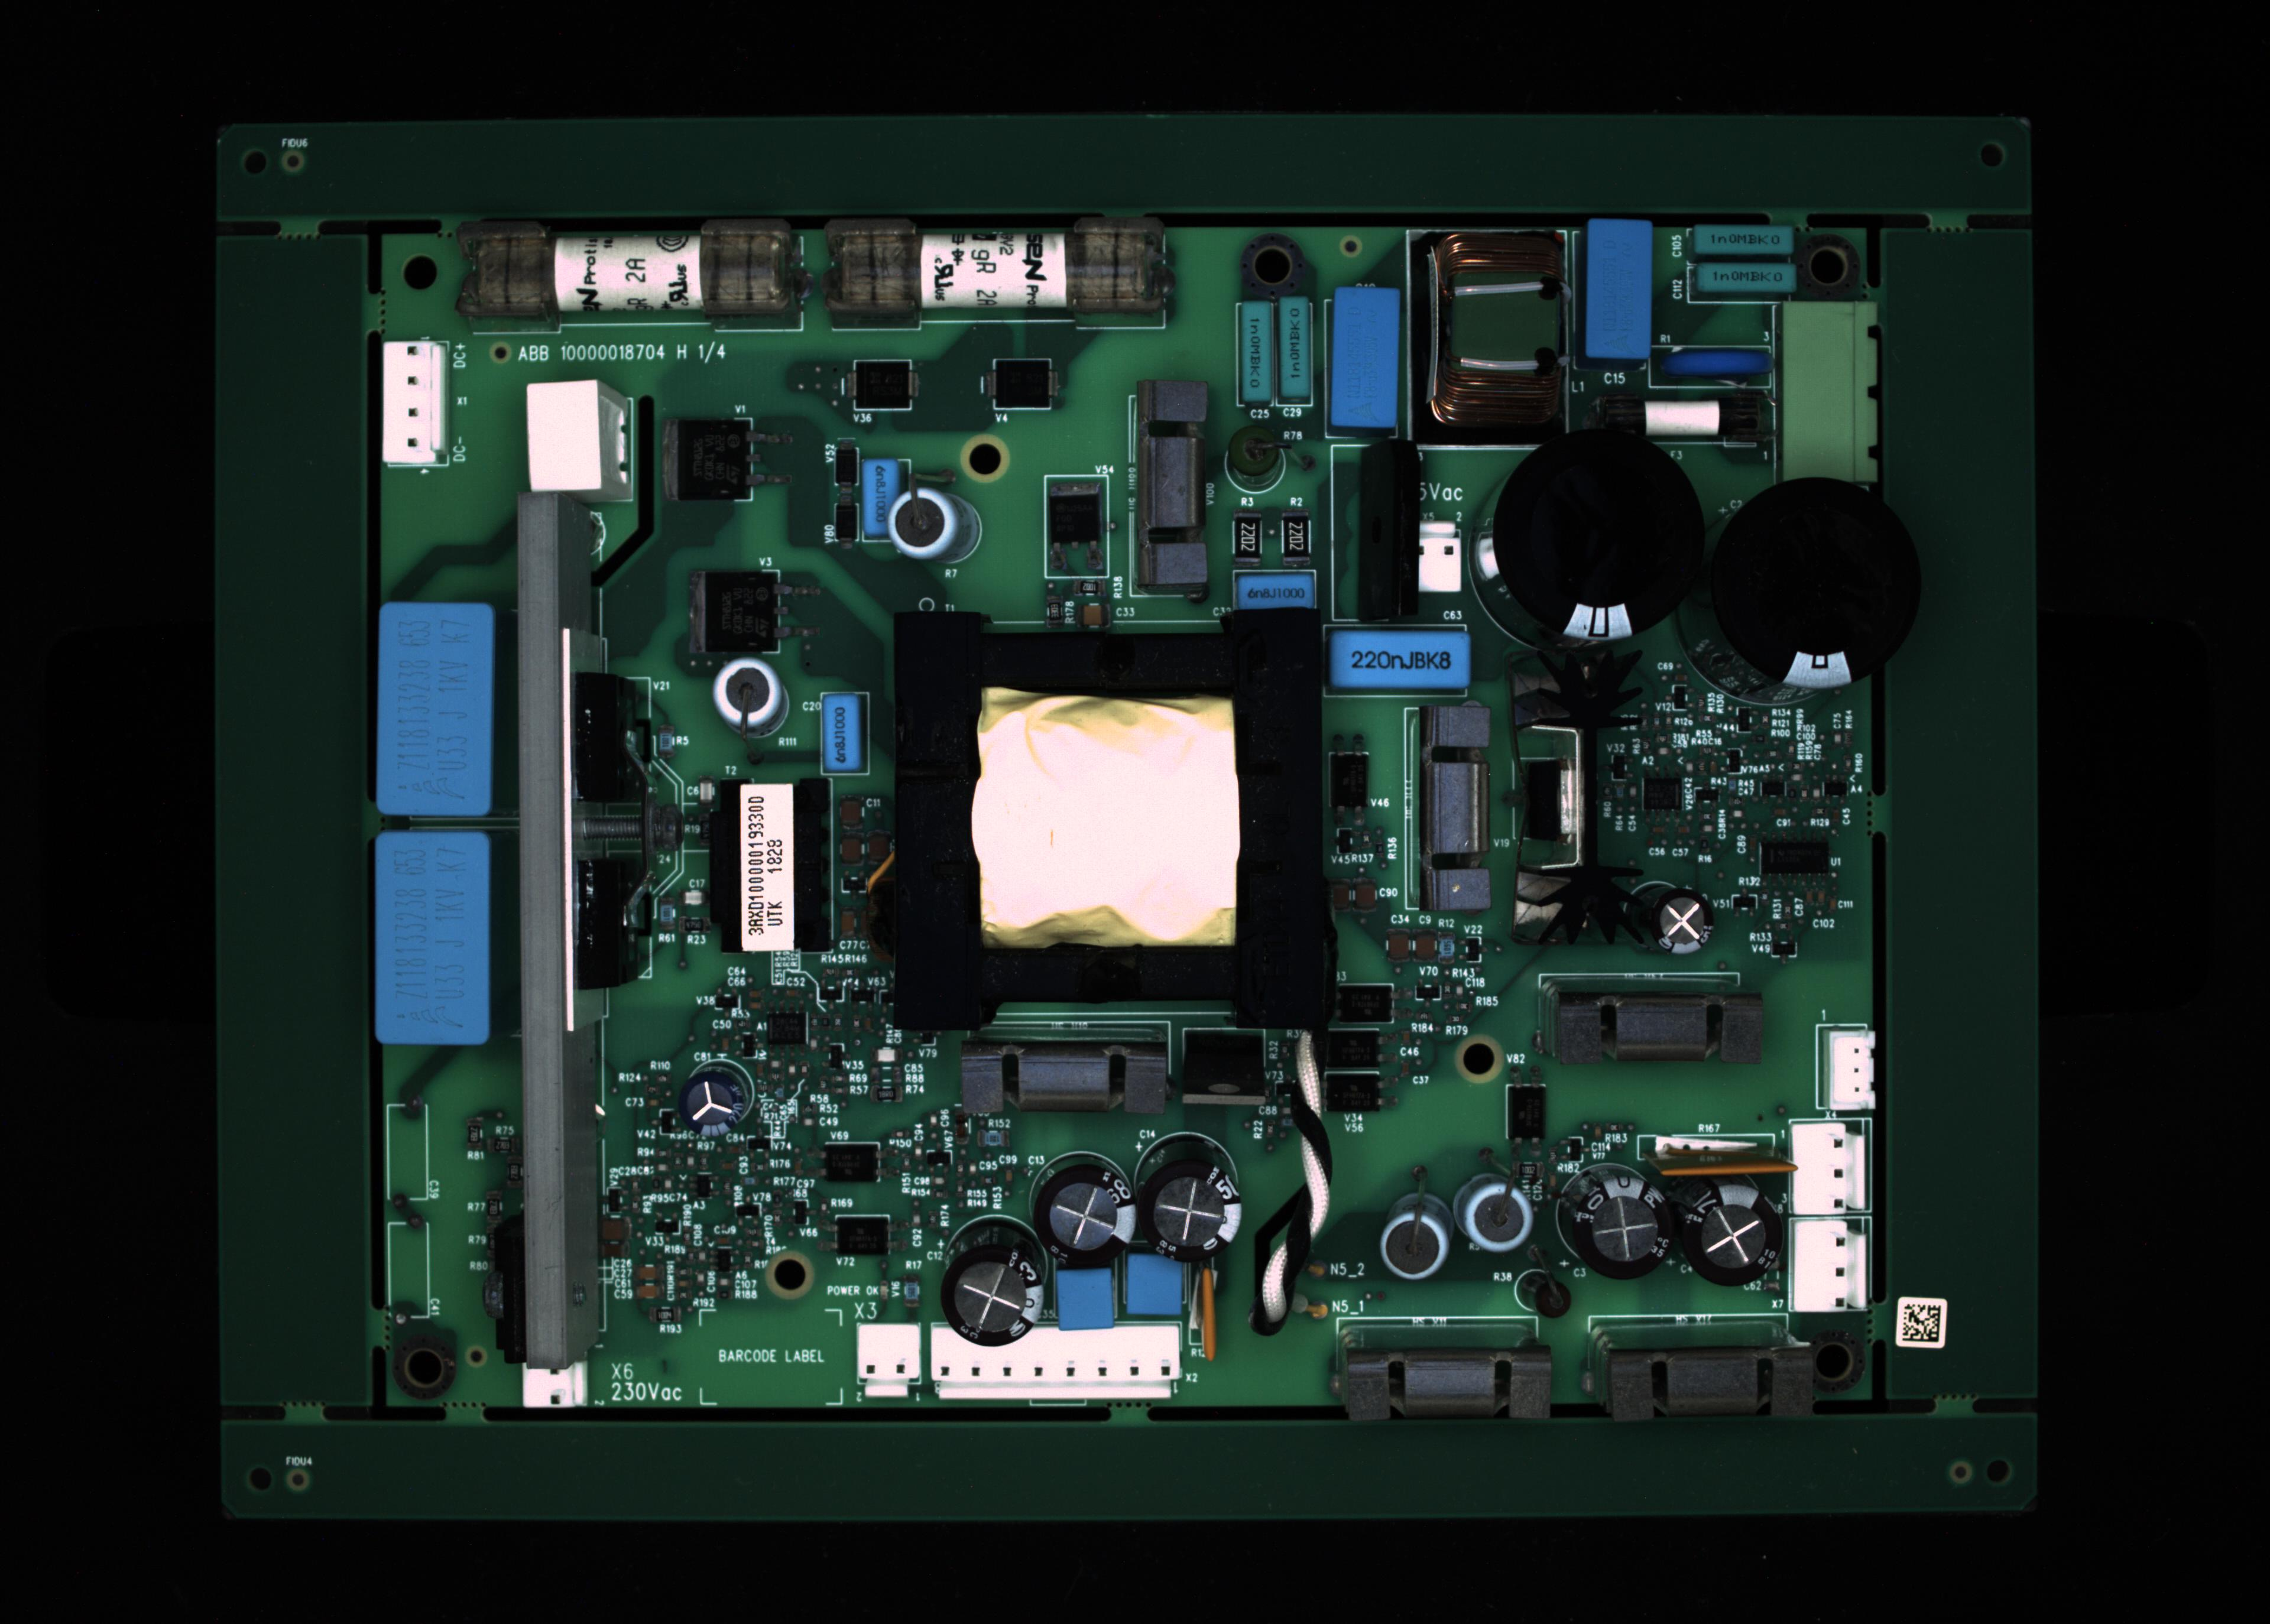10_p: (1648, 346, 1772, 394)
11_q: (1779, 299, 1881, 480)
12_r: (1591, 387, 1776, 455)
13_s: (380, 337, 447, 473)
14_t: (531, 385, 633, 494)
15_e: (862, 457, 899, 543)
16_k: (891, 483, 979, 569)
17_u: (1132, 385, 1206, 589)
18_v: (1231, 575, 1312, 610)
19_w: (1331, 627, 1472, 691)
1_a: (468, 225, 807, 327)
20_f: (1419, 517, 1463, 594)
21_g: (1486, 429, 1709, 650)
22_g: (1720, 482, 1929, 689)
23_h: (380, 592, 492, 821)
24_h: (369, 828, 492, 1044)
25_f: (515, 1362, 591, 1413)
26_f: (851, 1323, 927, 1403)
27_x: (930, 1323, 1182, 1399)
28_i: (1129, 1153, 1240, 1260)
29_i: (1027, 1149, 1134, 1271)
2_a: (819, 216, 1169, 327)
30_i: (935, 1243, 1050, 1346)
31_j: (1050, 1267, 1120, 1339)
32_j: (1122, 1250, 1187, 1318)
33_e: (821, 694, 860, 772)
34_k: (1371, 1211, 1465, 1281)
35_k: (1456, 1178, 1535, 1251)
36_i: (1572, 1162, 1679, 1281)
37_i: (1663, 1160, 1786, 1290)
38_l: (1333, 1352, 1560, 1424)
39_l: (1597, 1348, 1823, 1418)
3_b: (1240, 295, 1270, 401)
40_l: (1551, 990, 1771, 1069)
41_y: (1417, 707, 1496, 910)
42_z: (1827, 1026, 1878, 1114)
43_m: (1792, 1120, 1874, 1216)
44_m: (1788, 1222, 1876, 1311)
45_i: (679, 1065, 756, 1142)
46_n: (1338, 982, 1394, 1028)
47_n: (821, 1142, 877, 1181)
48_n: (835, 1214, 888, 1257)
49_aa: (761, 1011, 807, 1046)
4_b: (1282, 299, 1319, 402)
50_n: (1322, 1030, 1386, 1069)
51_n: (1317, 1070, 1382, 1114)
52_ab: (1331, 750, 1368, 803)
53_ac: (1656, 1130, 1790, 1165)
54_ad: (1194, 1253, 1222, 1364)
55_l: (960, 1044, 1175, 1118)
56_ae: (1176, 1025, 1270, 1104)
57_af: (1509, 647, 1635, 951)
58_i: (1648, 884, 1720, 956)
59_o: (988, 360, 1053, 408)
5_c: (1331, 286, 1400, 427)
60_o: (853, 357, 914, 410)
6_ag: (1405, 232, 1572, 452)
7_c: (1582, 218, 1649, 371)
8_d: (1692, 227, 1792, 257)
9_d: (1704, 262, 1793, 295)
